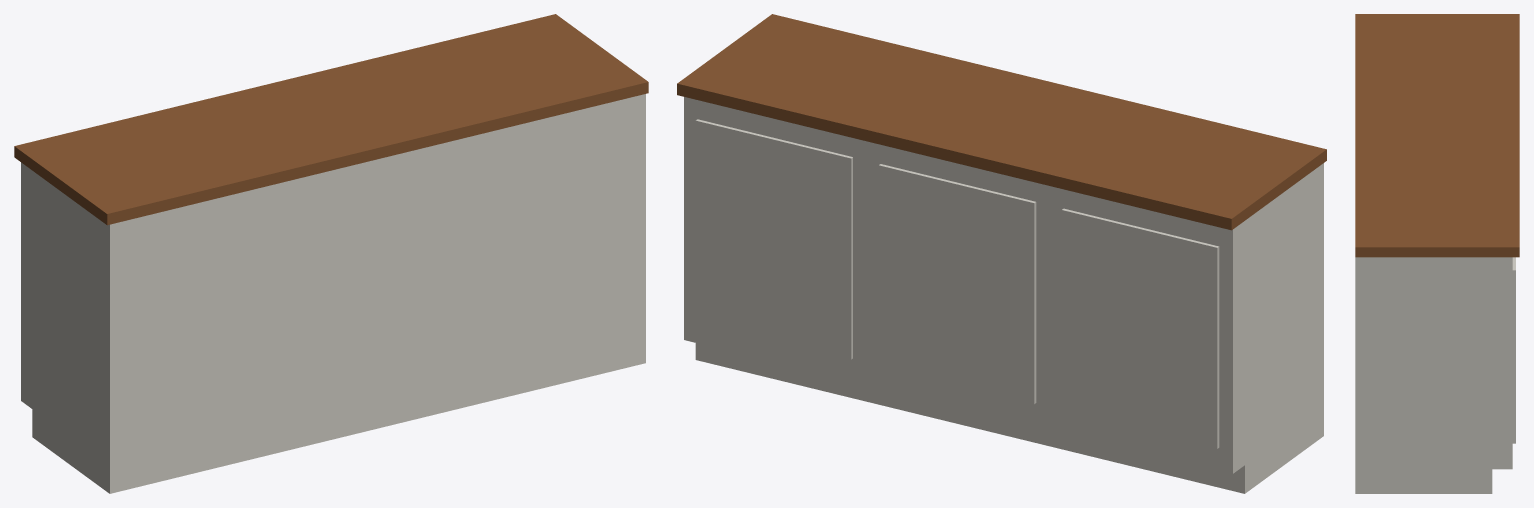
The model's file is parametric-counter-service.glb.
The picture shows the model from 3 angles, left to right: view 1: azimuth 30°, elevation 25°; view 2: azimuth 150°, elevation 25°; view 3: azimuth 270°, elevation 25°; orthographic projection. The views are drawn at different scales.
Visible parts, largest first — view 1: parametric-counter-service; view 2: parametric-counter-service; view 3: parametric-counter-service.
Boxes of the visible parts, x1,y1,x2,y2 form: parametric-counter-service: [14, 14, 648, 493]; parametric-counter-service: [677, 14, 1326, 493]; parametric-counter-service: [1355, 14, 1519, 493].
Bounding box in the file's own units: 2.02 × 1 × 0.6.
